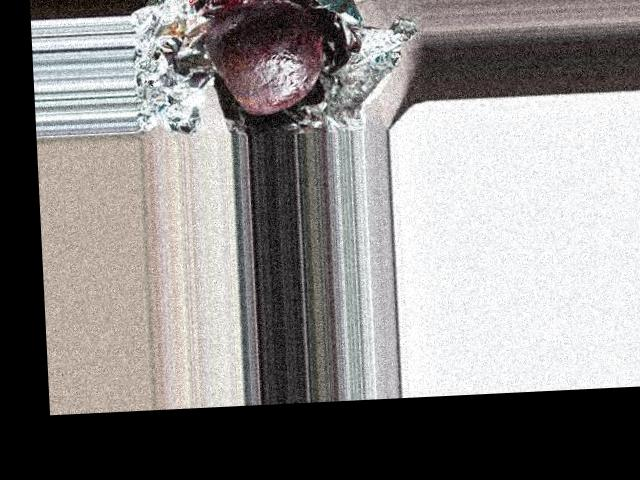beet: (203, 2, 328, 117)
